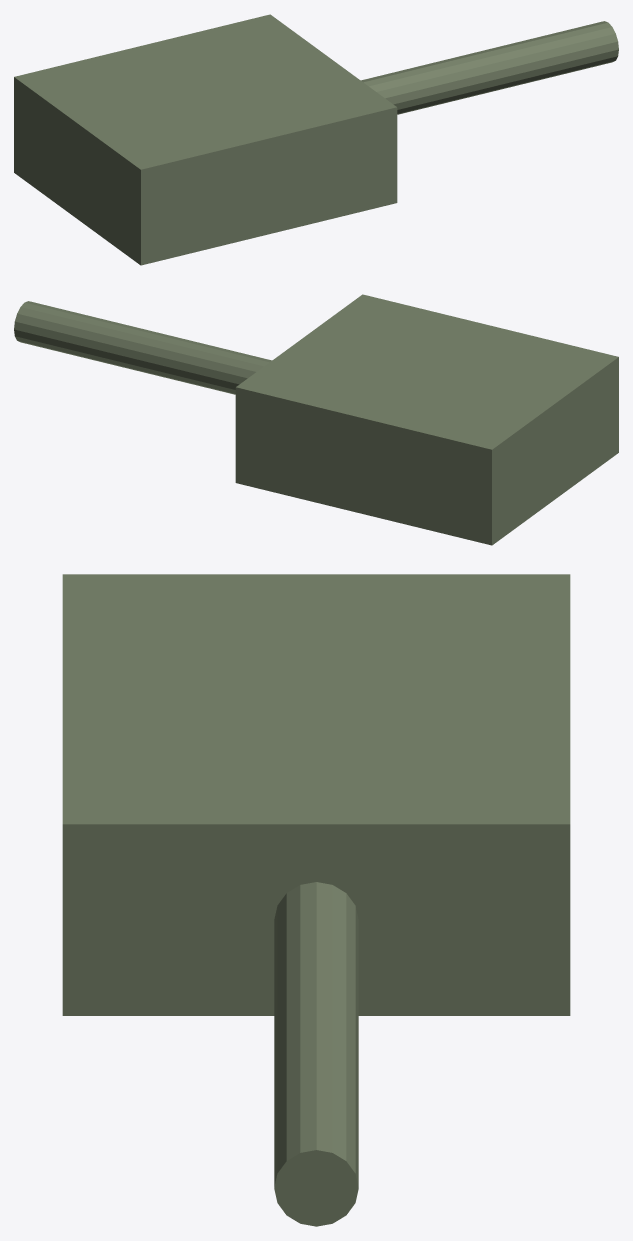
File: tank_turret.glb
3 views of the same model, one above another, from view 1: azimuth 30°, elevation 25°; view 2: azimuth 150°, elevation 25°; view 3: azimuth 270°, elevation 25° (orthographic). The views are drawn at different scales.
Parts seen in each view (by area): view 1: tank_turret; view 2: tank_turret; view 3: tank_turret.
Boxes of the visible parts, x1,y1,x2,y2 form: tank_turret: [14, 14, 618, 265]; tank_turret: [14, 294, 618, 545]; tank_turret: [62, 574, 570, 1226].
Size of the model in its own units: 2.9 by 0.5 by 1.2.
